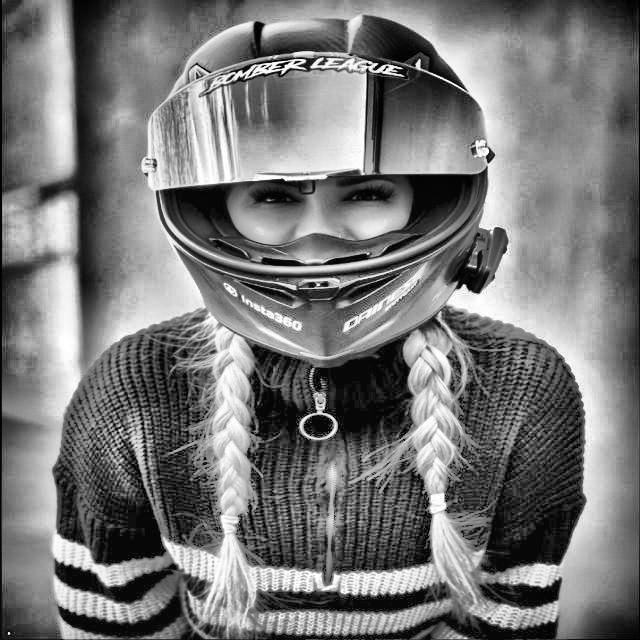Helmet: (131, 8, 517, 374)
